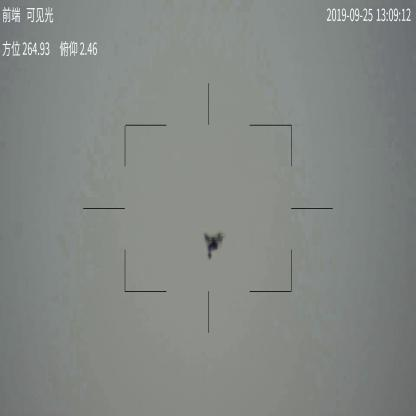uav: (202, 228, 224, 261)
